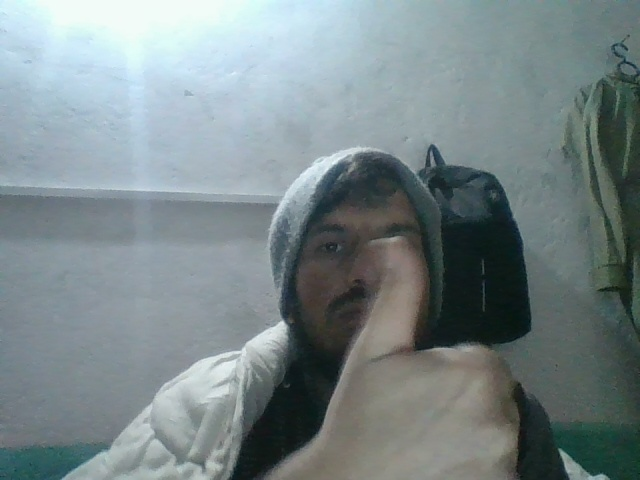ThumbsUp: (312, 235, 527, 478)
